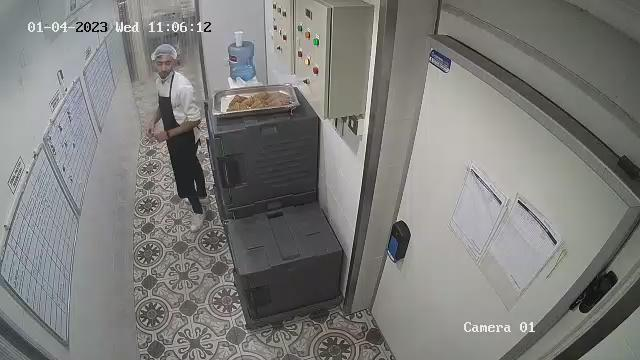apron: (155, 76, 195, 158)
